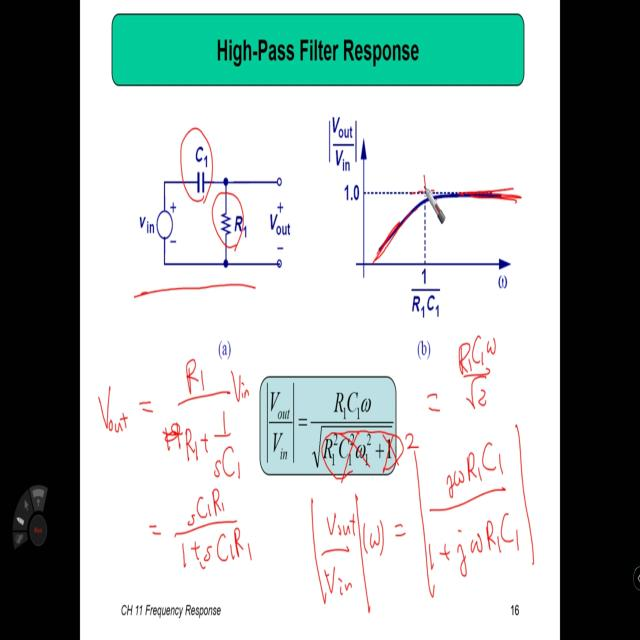panseo: (294, 325, 552, 627), (80, 333, 278, 597)
